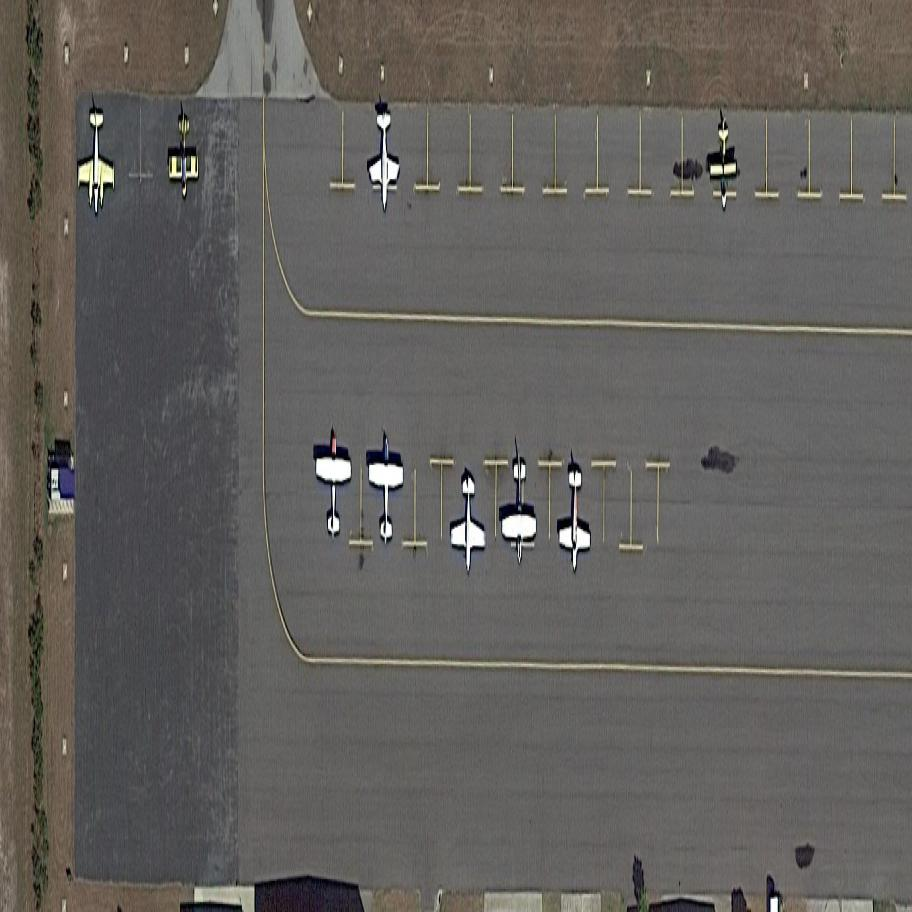plane: (368, 434, 405, 549), (501, 455, 538, 564), (315, 432, 352, 541), (78, 108, 115, 217), (558, 465, 594, 577), (450, 470, 487, 575), (368, 108, 401, 214), (169, 113, 200, 199), (709, 120, 736, 214)
